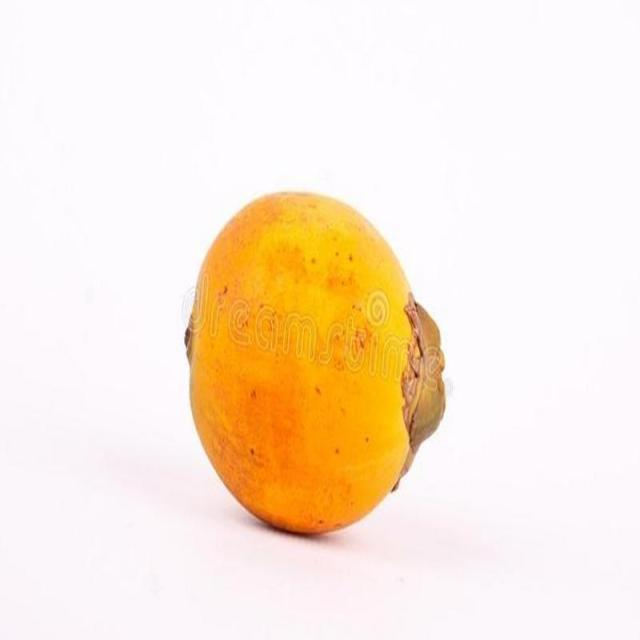good: (185, 191, 446, 538)
